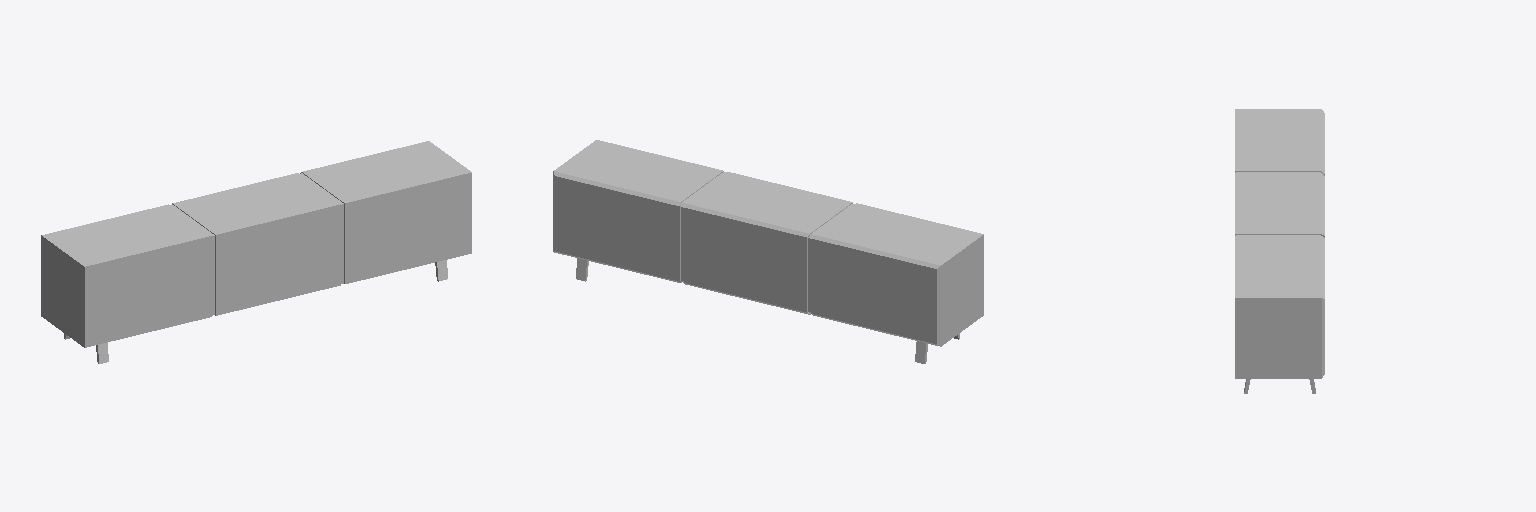
Rendered from mesa_2.obj.
3 views of the same model, side by side, from view 1: azimuth 30°, elevation 25°; view 2: azimuth 150°, elevation 25°; view 3: azimuth 270°, elevation 25° (orthographic).
Parts seen in each view (by area): view 1: Cubo; view 2: Cubo; view 3: Cubo.
Part boxes in pixels (x1,y1,x2,y2): Cubo: (41, 141, 471, 347); Cubo: (553, 140, 983, 346); Cubo: (1235, 109, 1324, 378).
Size of the model in its own units: 10 by 2.6 by 2.